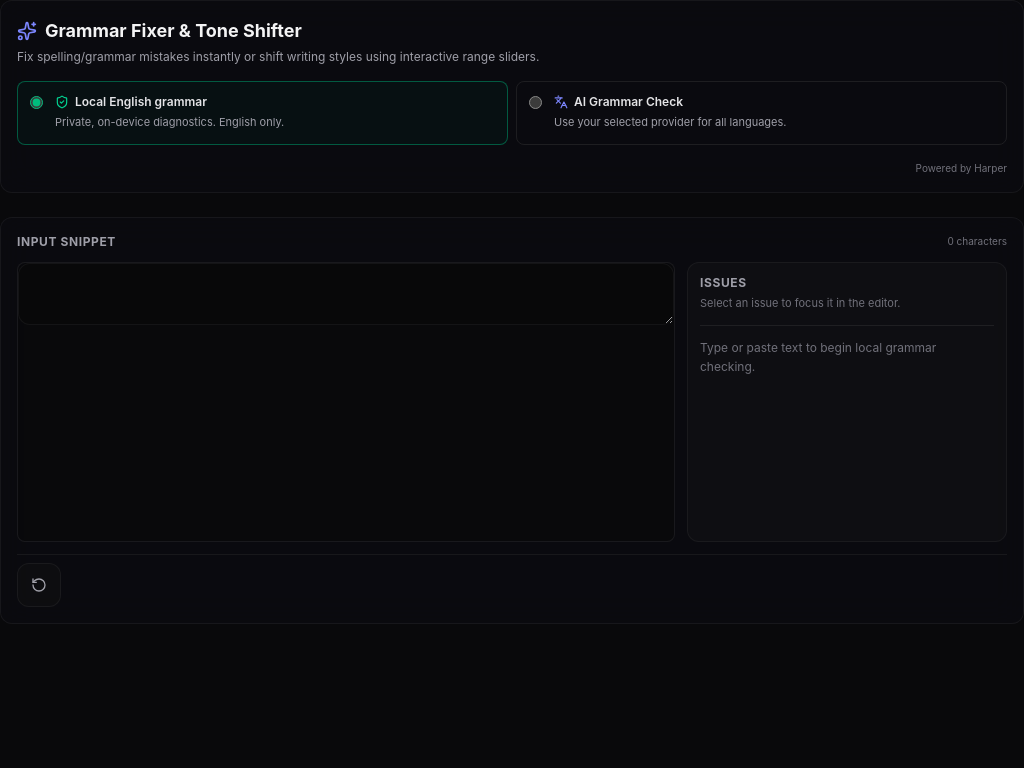
Test: GrammarWorkspace › applies a selected Harper suggestion and relints the replacement text
Type "It dont work." into the text box named "Local English grammar editor" at (346,294), box [18,263,674,325]
Wait 350 ms
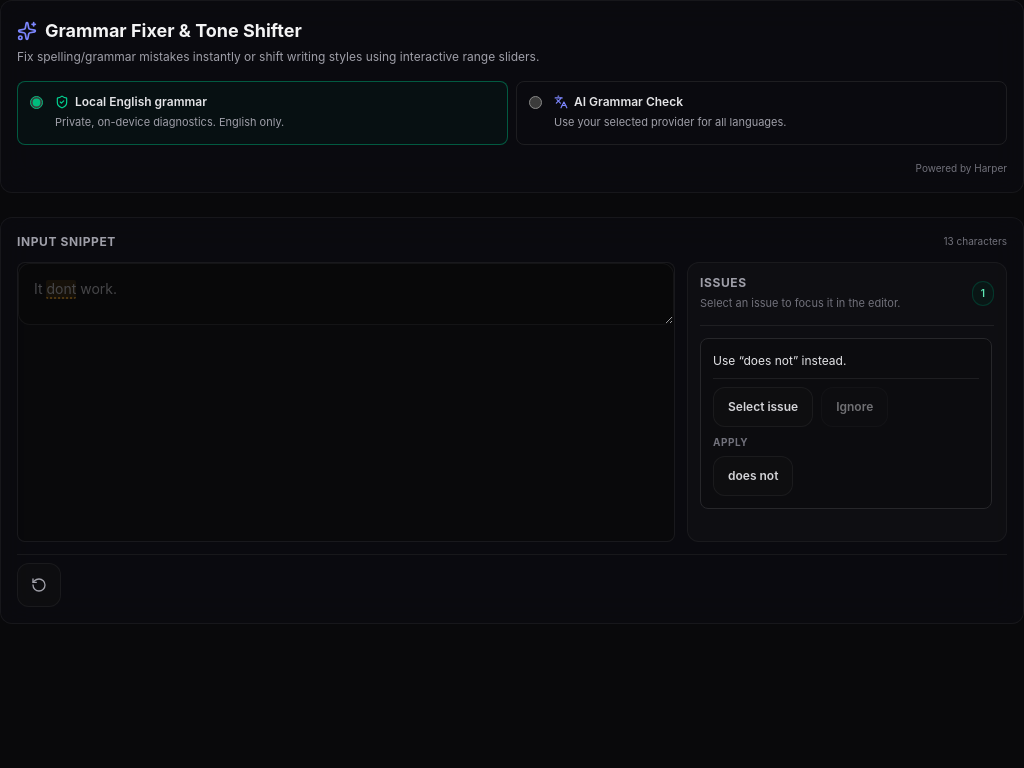
Click the button with aria-label "Apply suggestion: does not" at (753,476), box [713,456,793,496]
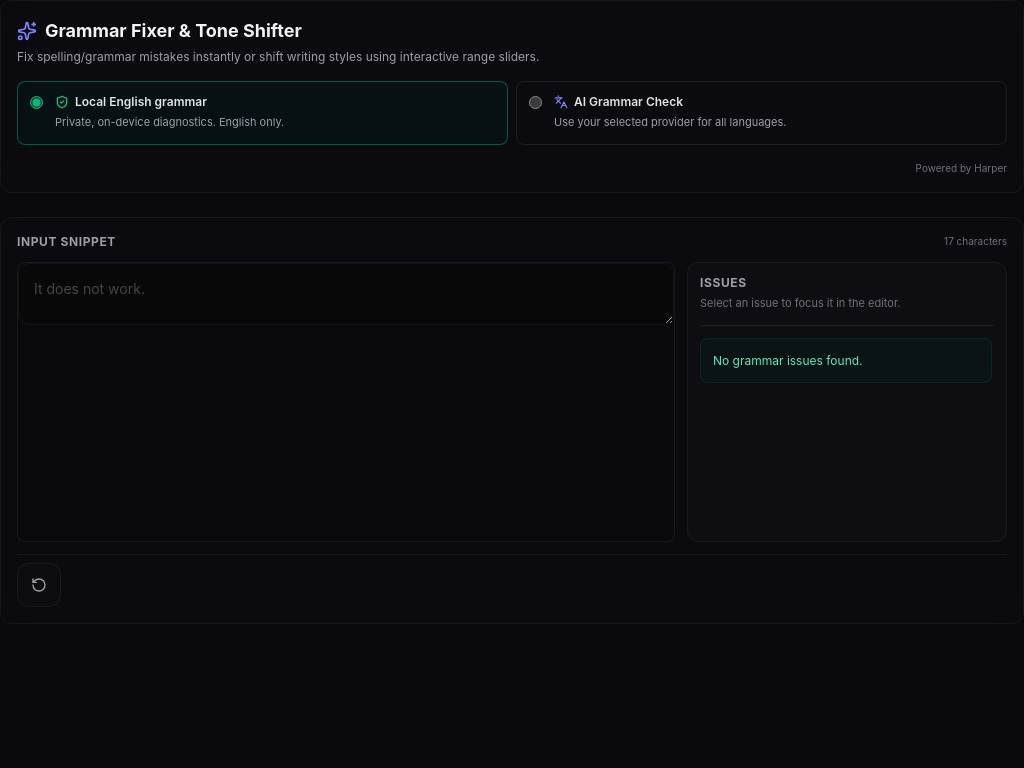
Now the text box named "Local English grammar editor" holds "It does not work.", box [18,263,674,325]
